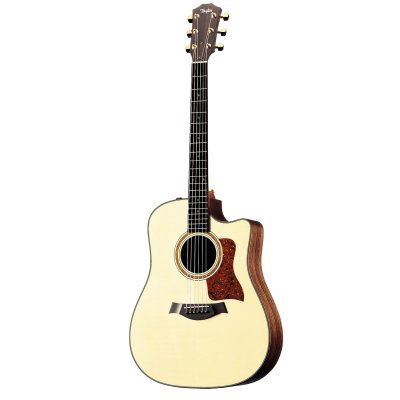guitar: (130, 3, 284, 389)
